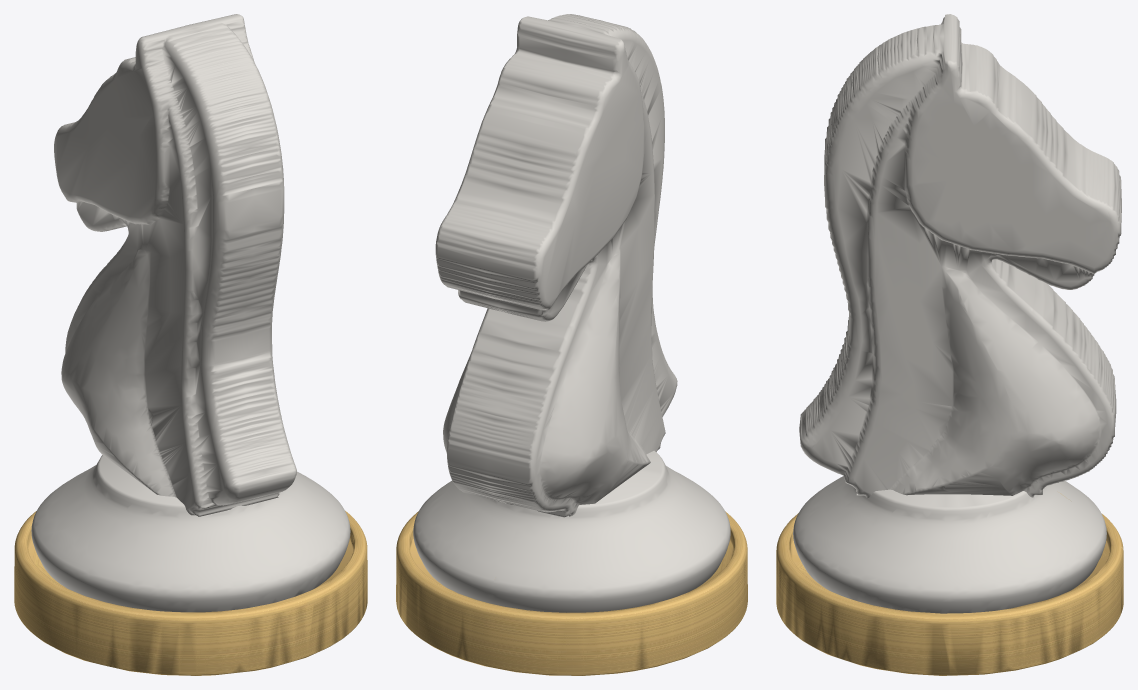
Rendered from knight-white-hd.glb.
The picture shows the model from 3 angles, left to right: view 1: azimuth 30°, elevation 25°; view 2: azimuth 150°, elevation 25°; view 3: azimuth 270°, elevation 25°; orthographic projection.
Visible parts, largest first — view 1: Aurum Ivoire – Knight; view 2: Aurum Ivoire – Knight; view 3: Aurum Ivoire – Knight.
Boxes of the visible parts, box(x1,y1,x2,y2) form: Aurum Ivoire – Knight: box(14, 14, 367, 675); Aurum Ivoire – Knight: box(396, 14, 747, 675); Aurum Ivoire – Knight: box(776, 14, 1123, 675).
Size of the model in its own units: 0.6888 by 1.24 by 0.689.
Materials: 2 (1 with a texture image).
